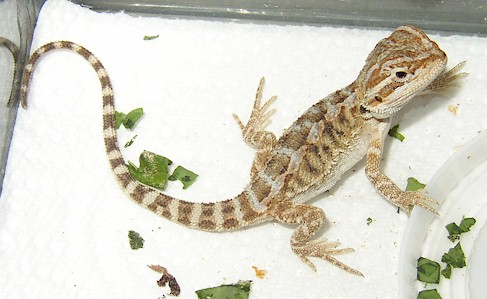bearded: (21, 26, 442, 280)
